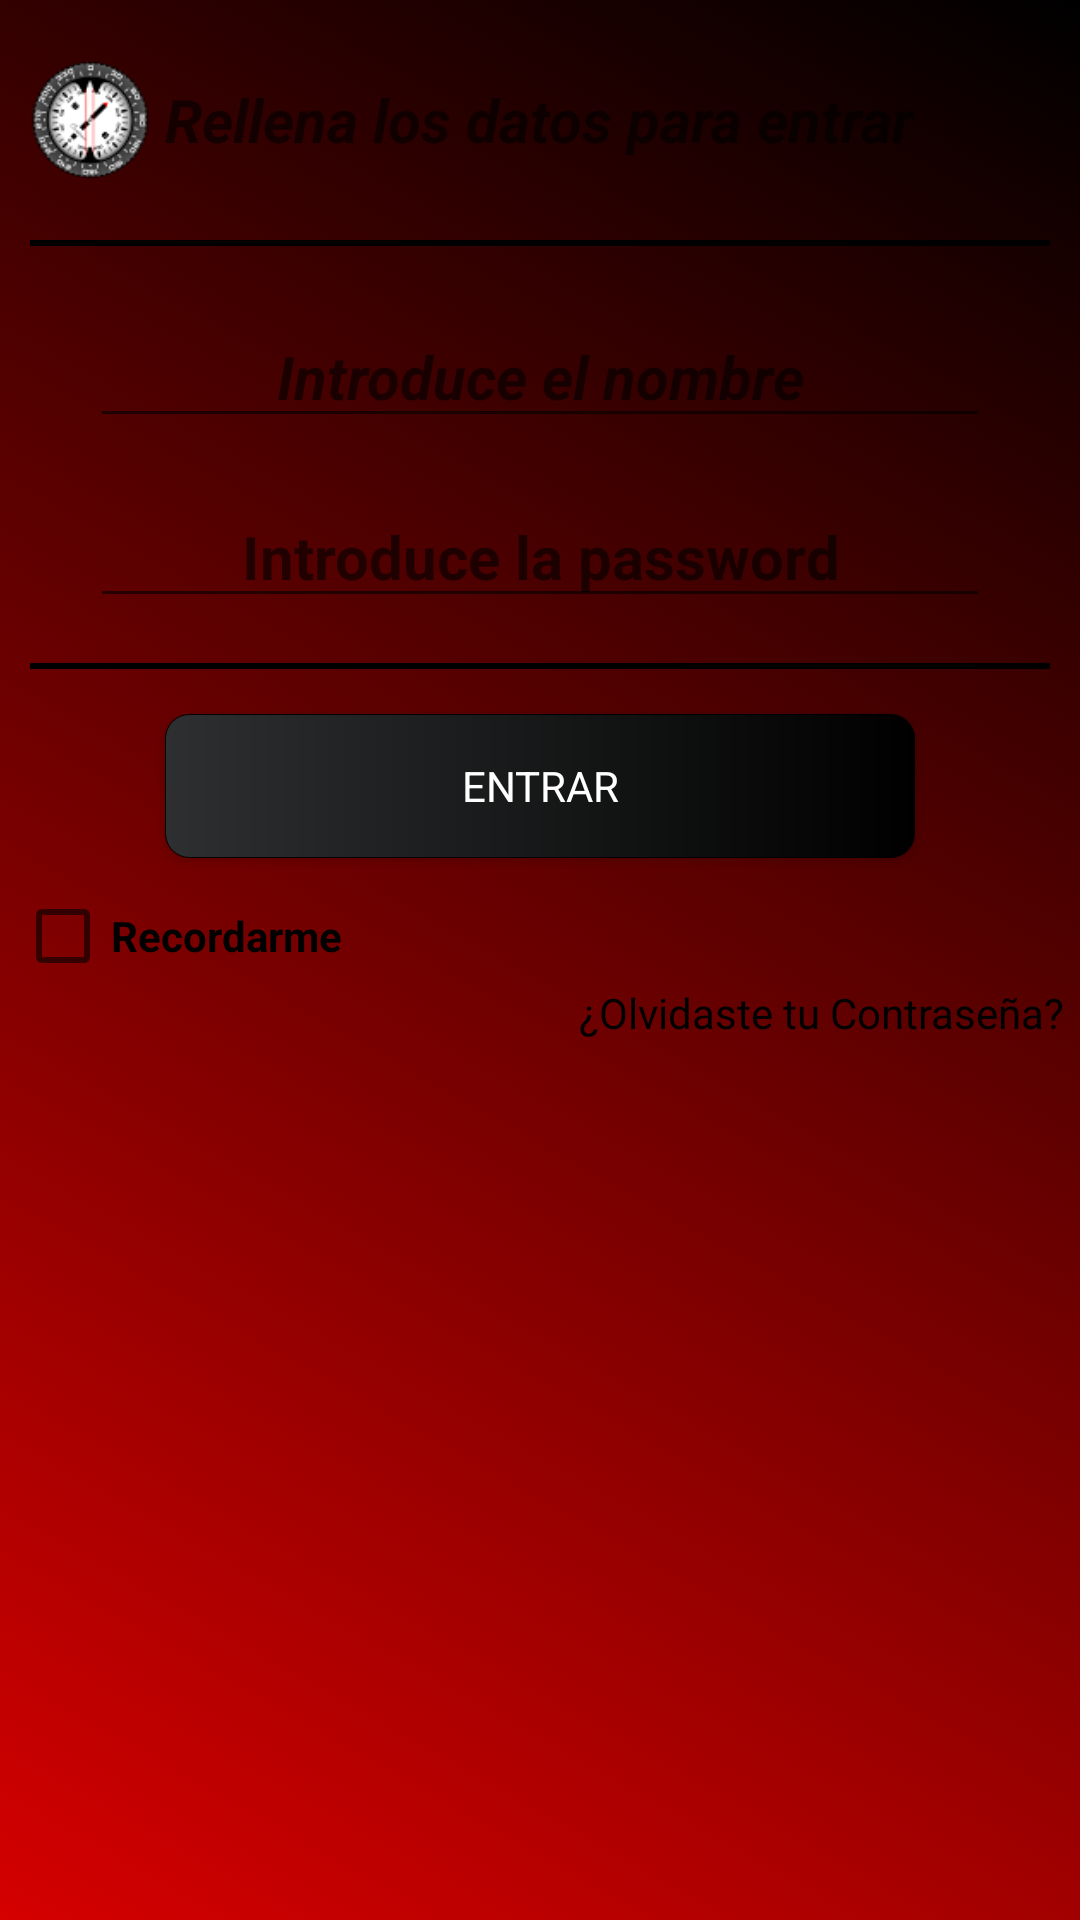

Screen size 1080×1920. Icon name, then its box in pixels as (x1=x1, y1=y1, x2=x2, y2=y2):
brujula opt: (x1=32, y1=62, x2=148, y2=178)
